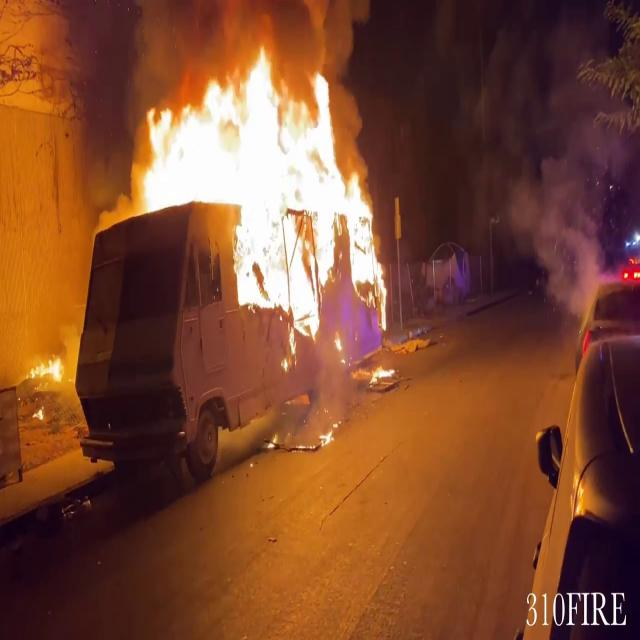Fire: (128, 35, 392, 322)
